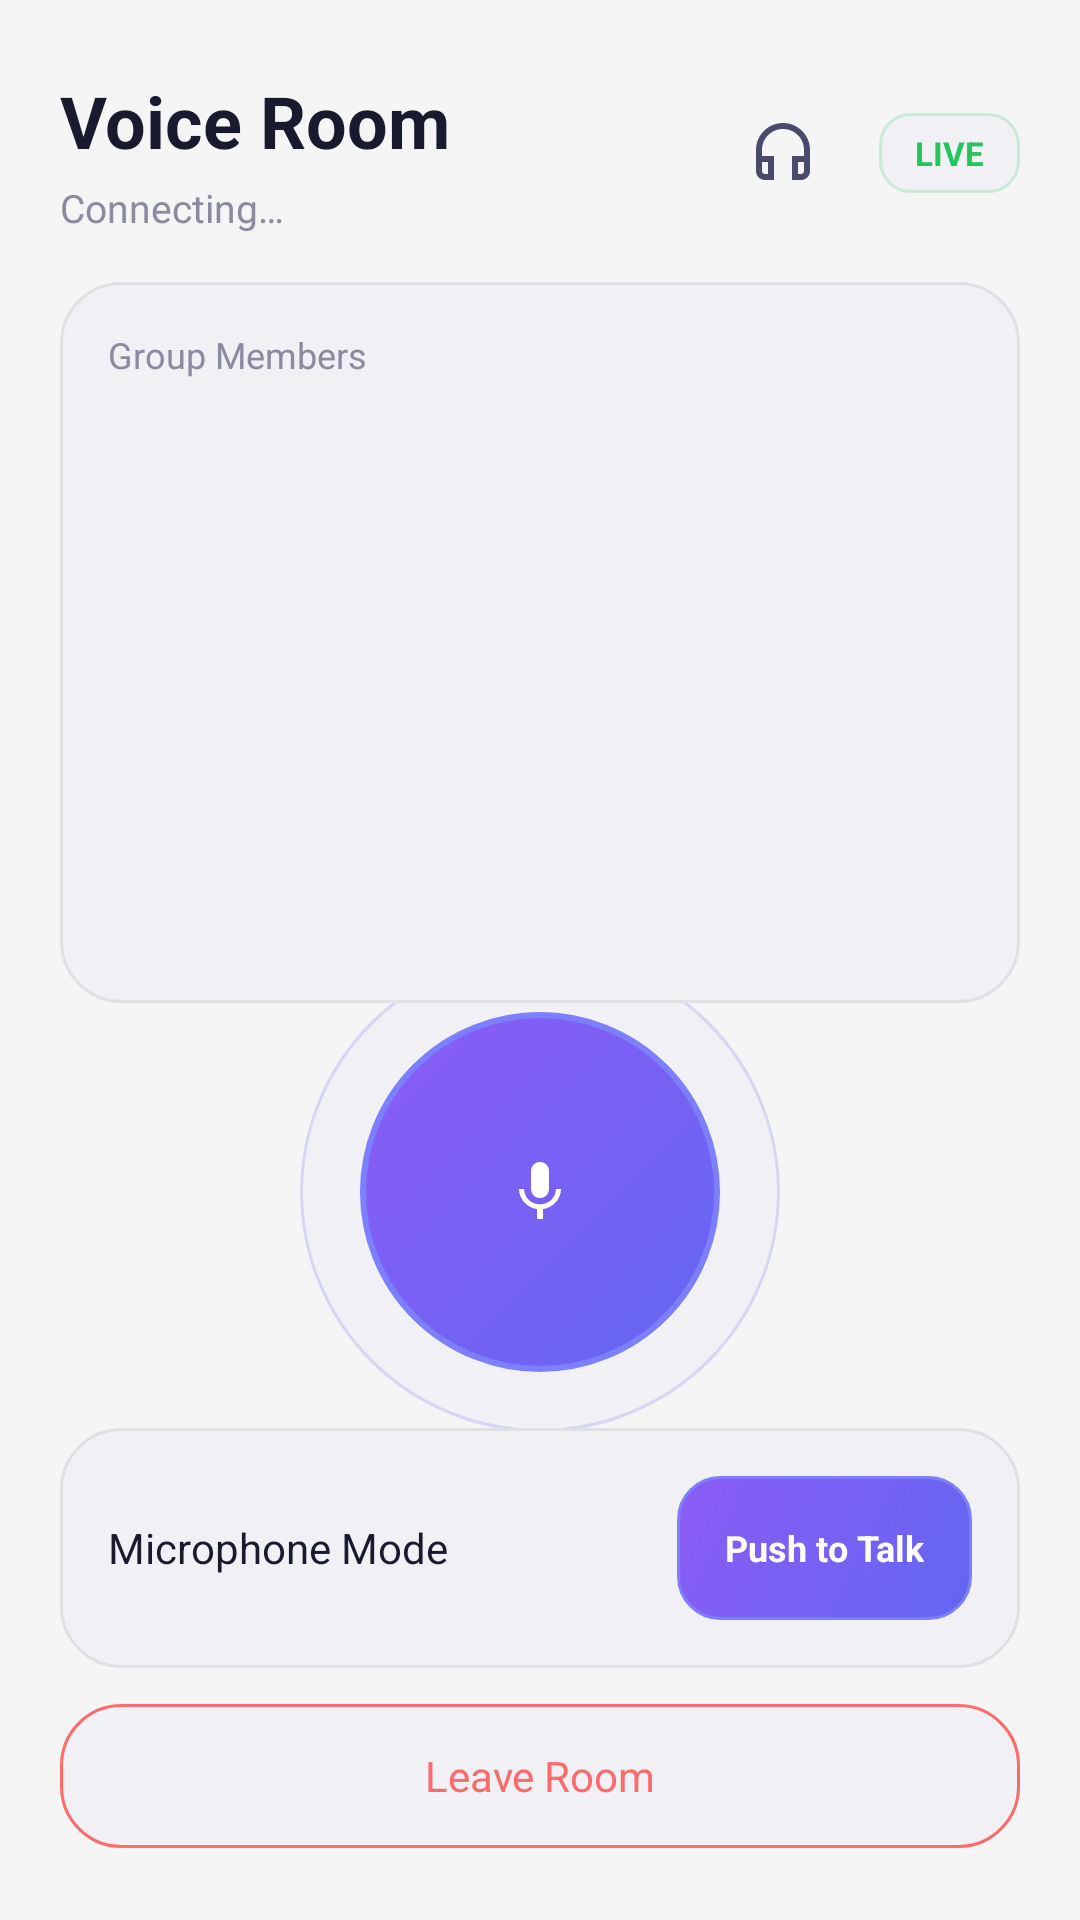

Screen size 1080w x 1920h. Icon name, then its box in pixels as (x1, y1, x2, y2):
Hold & Speak: (360, 1012, 720, 1372)
